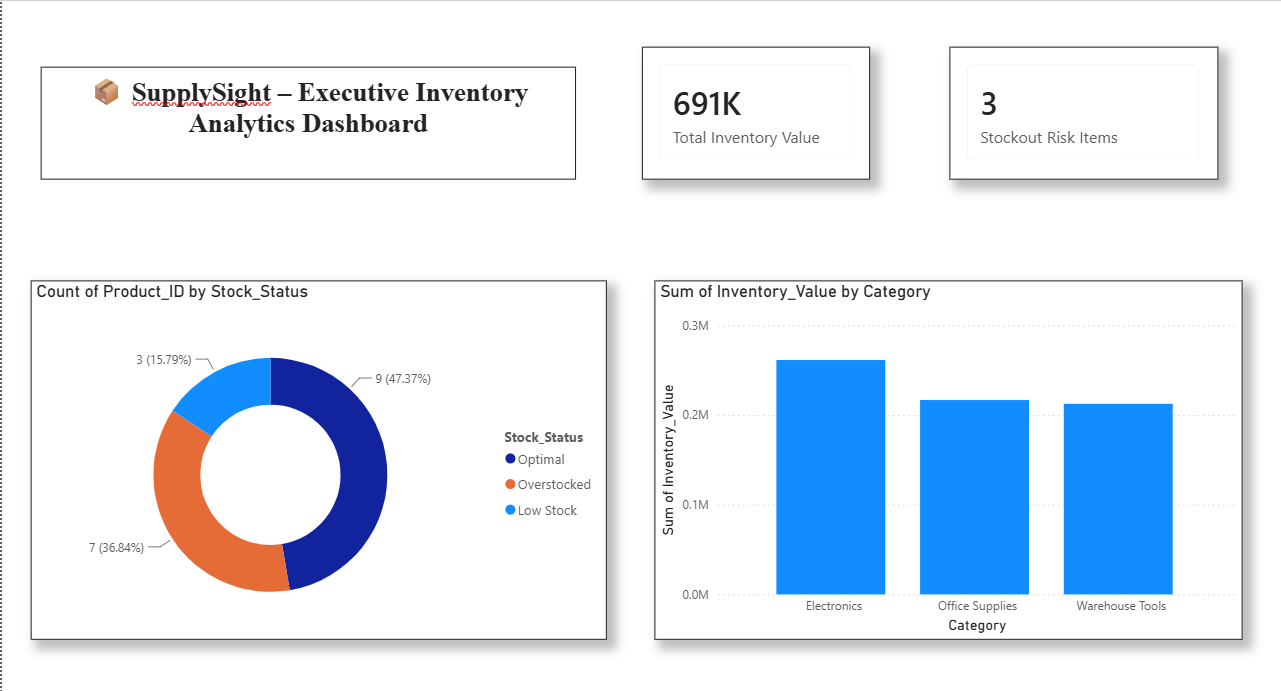

What the dashboard file says about the page in this screenshot:
{"tool":"powerbi","page":{"name":"Page 3","canvas":[1280,720],"ordinal":2},"visuals":[{"type":"cardVisual","fields":{"Data":["master_inventory_transformed.Total Inventory Value"]},"box":[639.4,73.9,227.7,132.7],"z":0},{"type":"cardVisual","fields":{"Data":["master_inventory_transformed.Stockout Risk Items"]},"box":[947,73.9,268.4,132.7],"z":1000},{"type":"donutChart","fields":{"Category":["master_inventory_transformed.Stock_Status"],"Y":["CountNonNull(master_inventory_transformed.Product_ID)"]},"box":[28.7,307.6,576.1,358.9],"z":1001},{"type":"clusteredColumnChart","fields":{"Category":["master_inventory_transformed.Category"],"Y":["Sum(master_inventory_transformed.Inventory_Value)"]},"box":[653,307.6,588.1,358.9],"z":1002},{"type":"textbox","box":[39.2,93.5,535.3,113.1],"z":1003}]}

Visuals, with their boxes in screenshot pixels (x1, y1, x2, y2):
cardVisual - master_inventory_transformed.Total Inventory Value: BBox(640, 38, 872, 173)
cardVisual - master_inventory_transformed.Stockout Risk Items: BBox(953, 38, 1226, 173)
donutChart - master_inventory_transformed.Stock_Status x CountNonNull(master_inventory_transformed.Product_ID): BBox(19, 276, 605, 641)
clusteredColumnChart - master_inventory_transformed.Category x Sum(master_inventory_transformed.Inventory_Value): BBox(654, 276, 1252, 641)
textbox: BBox(30, 58, 574, 173)
